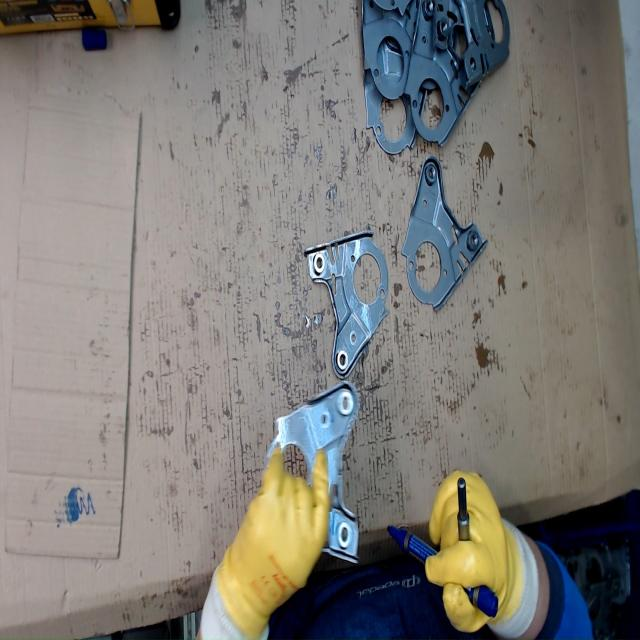hands: (225, 442, 332, 612), (426, 470, 522, 636)
